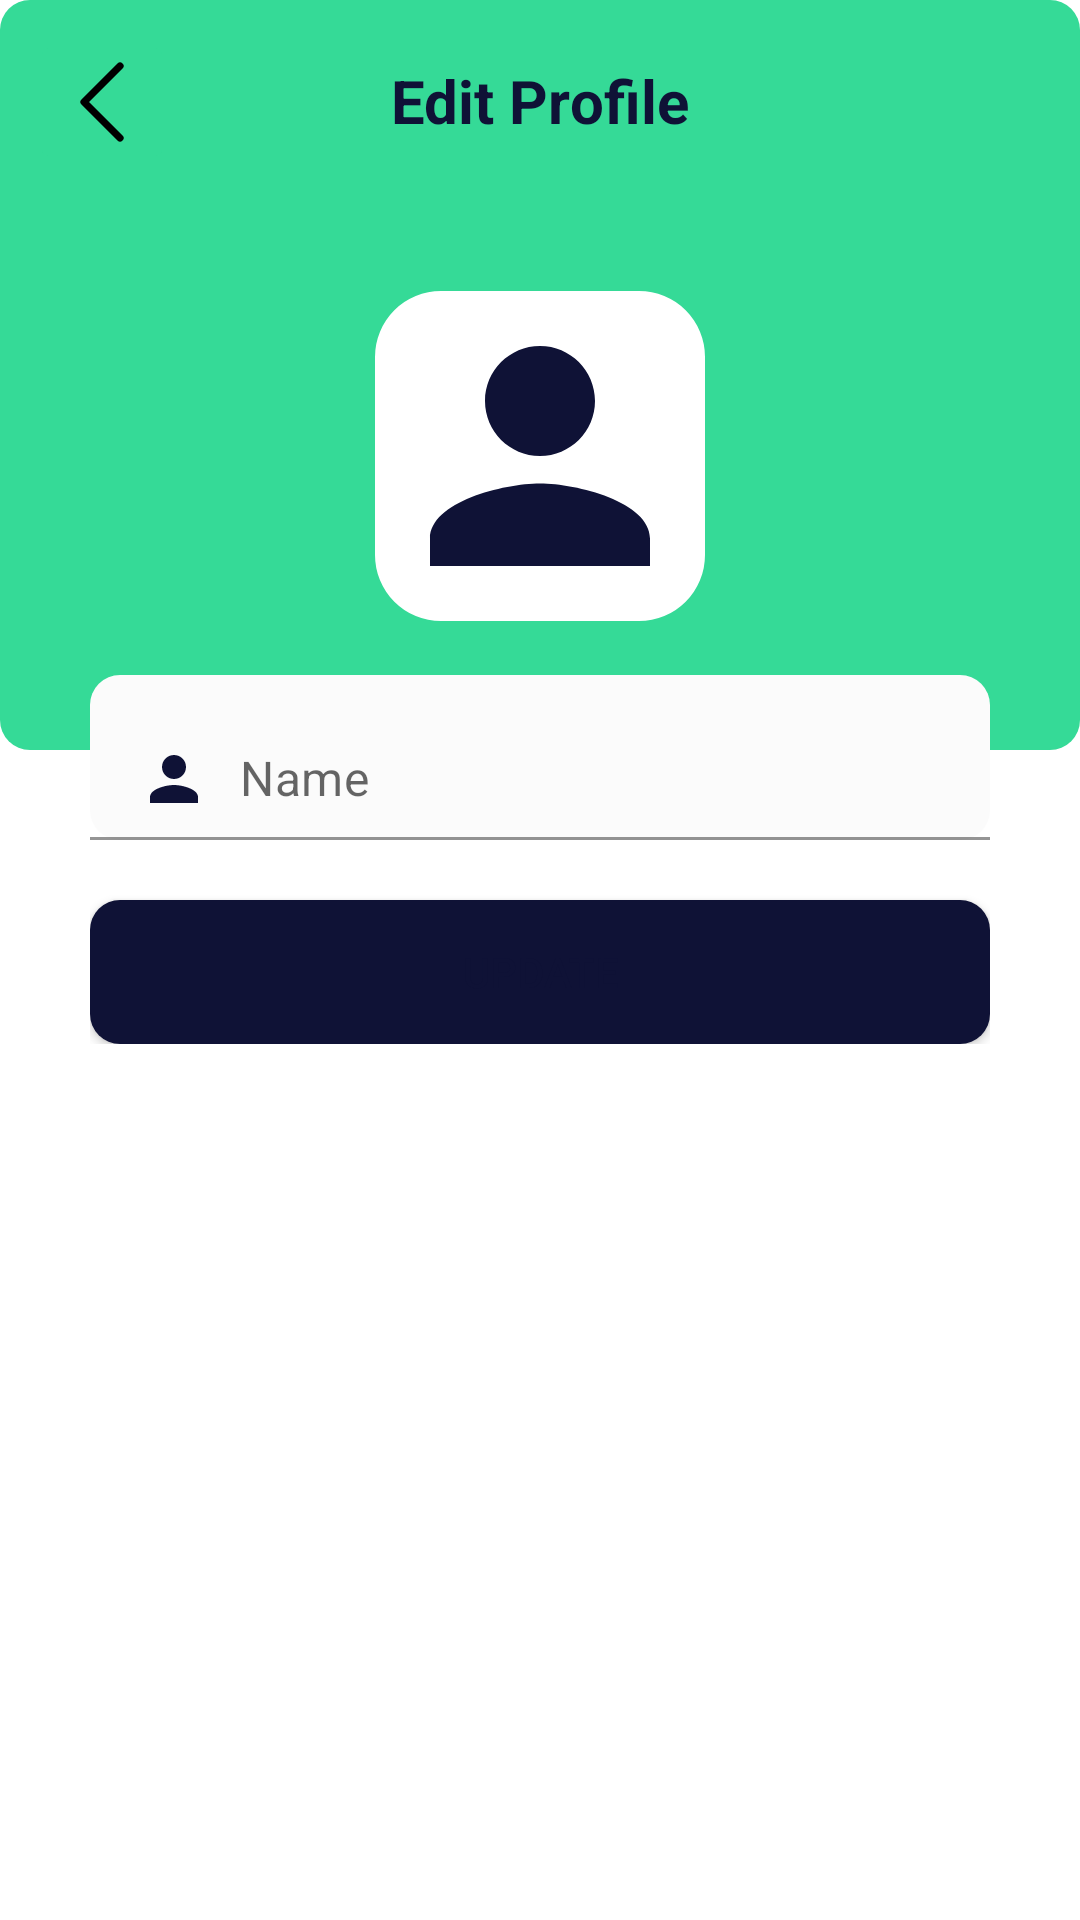

Named icons in this screenshot (1080w x 1920h) and their bounding boxes, {"left": x1, "top": y1, "right": x2, "bottom": y2}:
person: {"left": 375, "top": 291, "right": 705, "bottom": 621}
